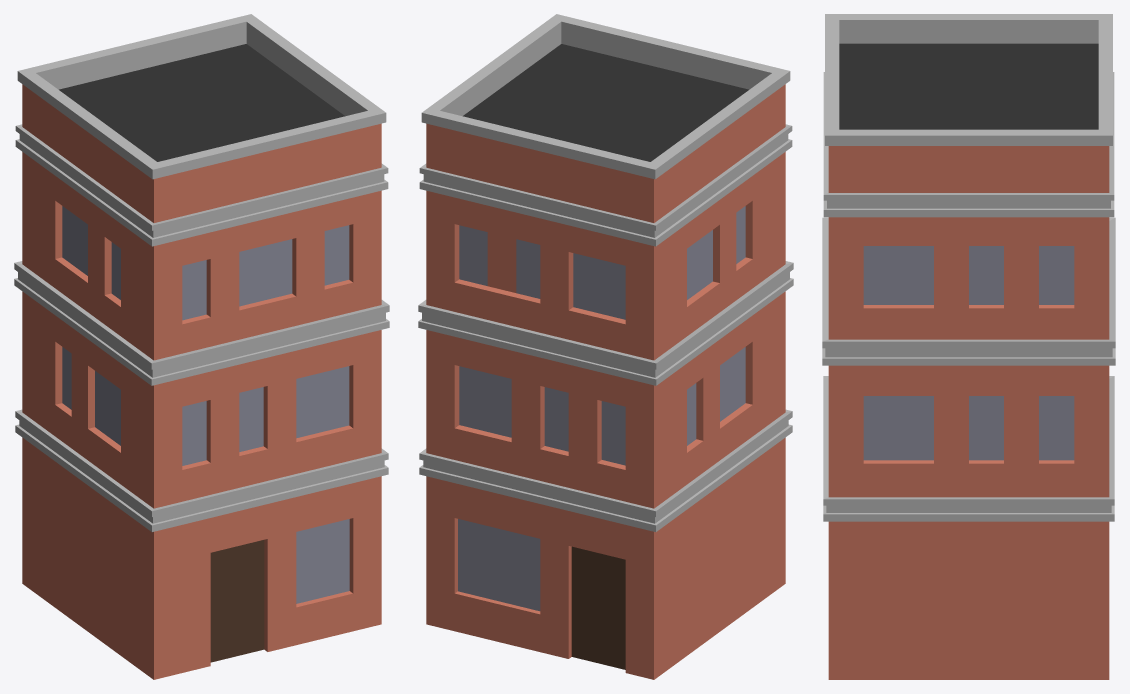
File: building 1.fbx
3 renders of one model, left to right at view 1: azimuth 30°, elevation 25°; view 2: azimuth 150°, elevation 25°; view 3: azimuth 270°, elevation 25°, orthographic. The views are drawn at different scales.
Visible parts, largest first — view 1: Cube; view 2: Cube; view 3: Cube.
Boxes of the visible parts, box(x1,y1,x2,y2) form: Cube: box(14, 14, 389, 679); Cube: box(418, 14, 793, 679); Cube: box(822, 14, 1115, 679).
Size of the model in its own units: 981 by 2016 by 981.
